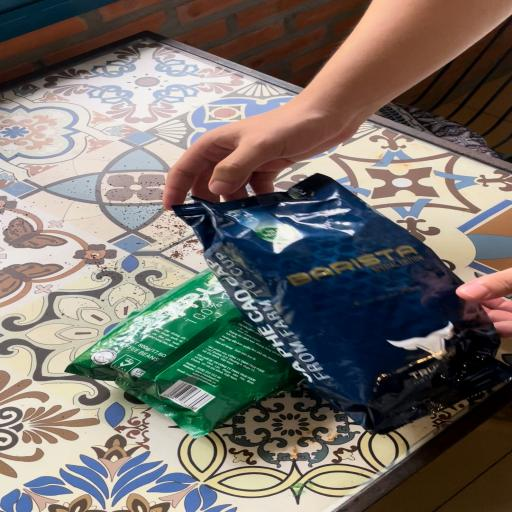cafe_hat: (173, 173, 512, 434)
cafe_xay: (66, 270, 300, 438)
